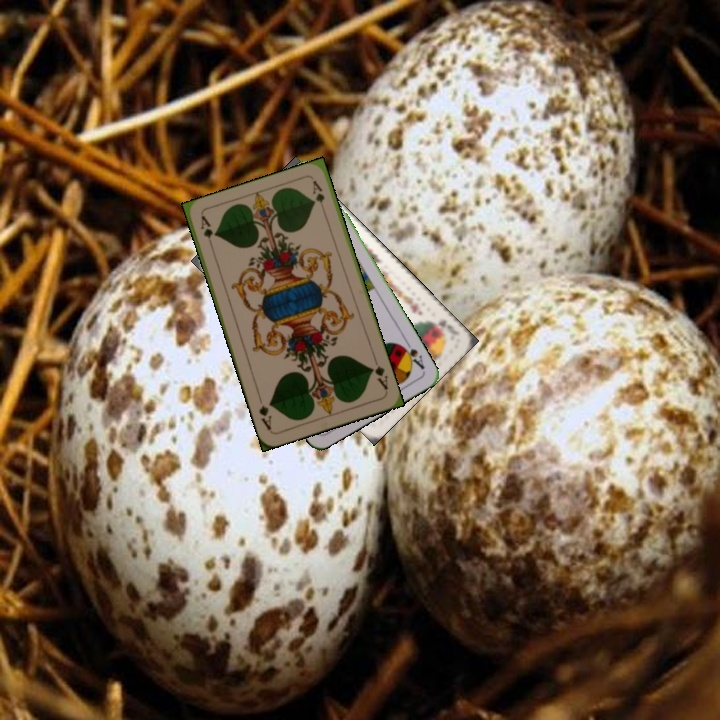GA: (366, 354, 391, 392), (196, 212, 216, 252)
SA: (395, 336, 427, 372)
SK: (425, 315, 453, 332)
